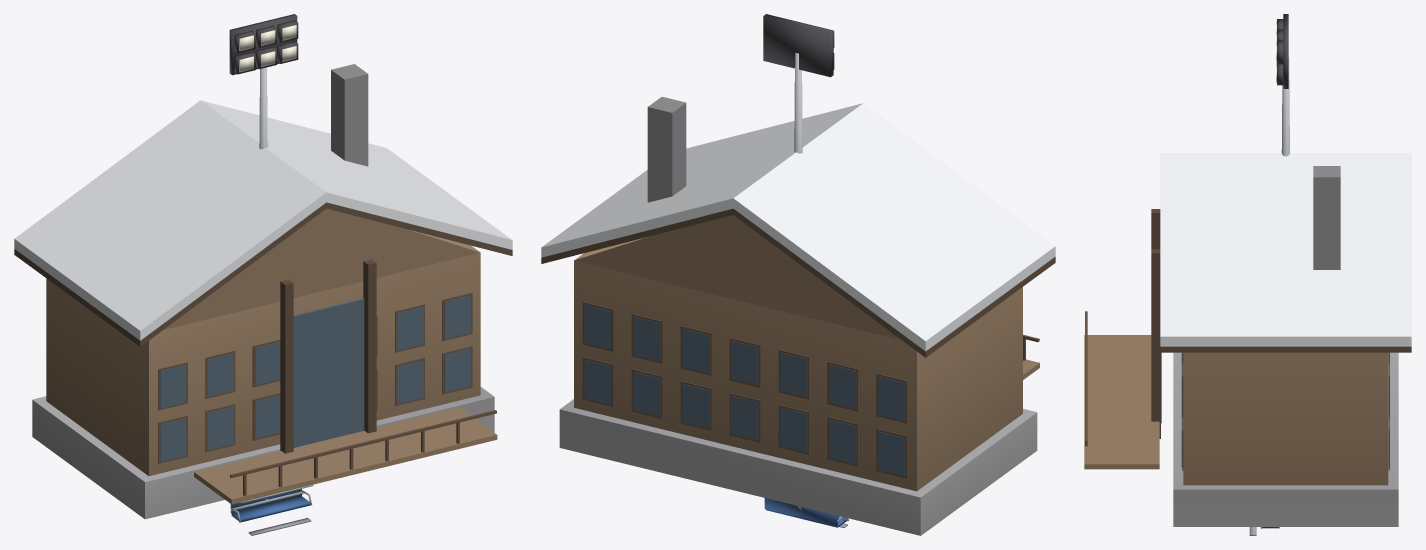
The model's file is env.glb.
3 renders of one model, left to right at view 1: azimuth 30°, elevation 25°; view 2: azimuth 150°, elevation 25°; view 3: azimuth 270°, elevation 25°, orthographic. The views are drawn at different scales.
Parts seen in each view (by area): view 1: lodge, light_tower, lift_chair; view 2: lodge, light_tower, lift_chair; view 3: lodge, light_tower.
Boxes of the visible parts, left/top/right/bottom form: lodge: left=14, top=64, right=512, bottom=519; light_tower: left=229, top=14, right=298, bottom=149; lift_chair: left=230, top=484, right=313, bottom=535; lodge: left=541, top=96, right=1055, bottom=535; light_tower: left=763, top=14, right=834, bottom=153; lift_chair: left=764, top=498, right=848, bottom=527; lodge: left=1084, top=153, right=1411, bottom=526; light_tower: left=1276, top=14, right=1289, bottom=156.
Bounding box in the file's own units: 628 × 794 × 479.
